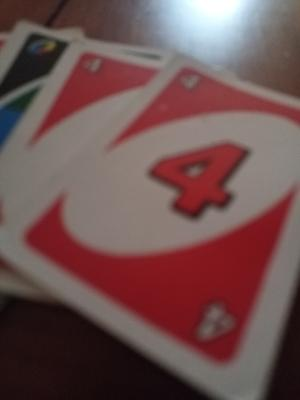colour: (21, 30, 62, 66)
num_4: (140, 135, 257, 224)
